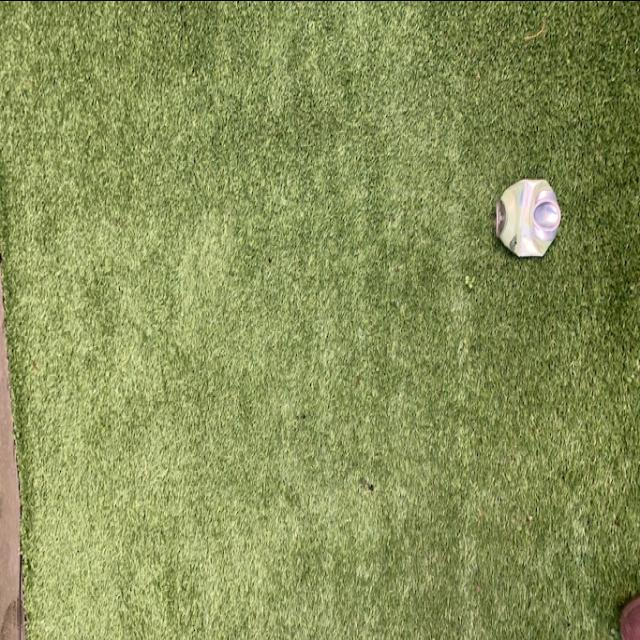litter: (493, 172, 565, 258)
